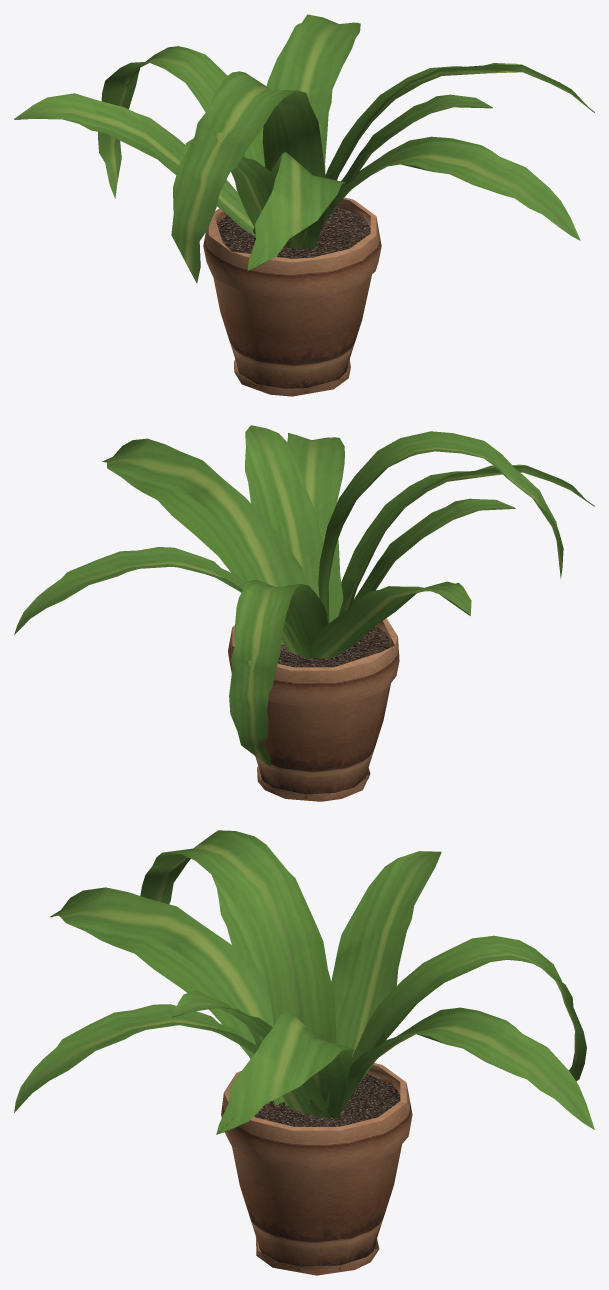
Rendered from FlowerRoom3a.FBX.
The picture shows the model from 3 angles, top to bottom: view 1: azimuth 30°, elevation 25°; view 2: azimuth 150°, elevation 25°; view 3: azimuth 270°, elevation 25°; orthographic projection. The views are drawn at different scales.
Visible parts, largest first — view 1: Cylinder001; view 2: Cylinder001; view 3: Cylinder001.
Boxes of the visible parts, x1,y1,x2,y2 form: Cylinder001: (14,14,594,396); Cylinder001: (14,425,594,801); Cylinder001: (14,830,594,1275).
Size of the model in its own units: 76.58 by 52.17 by 75.75.
